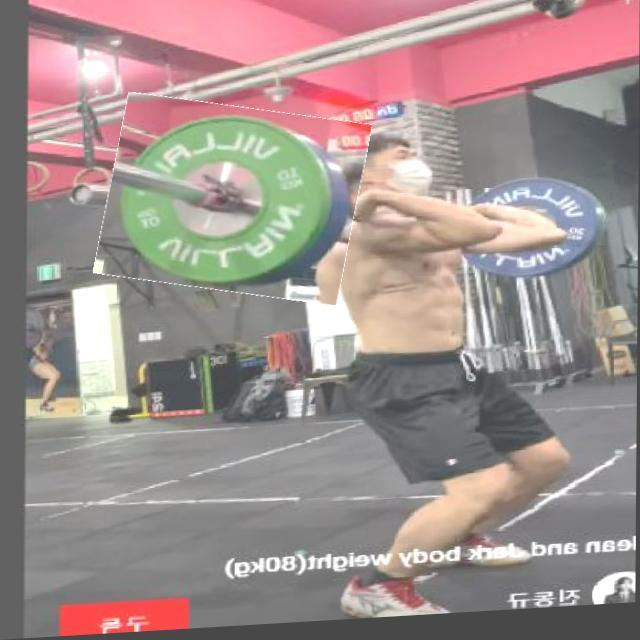barbell: (102, 95, 366, 311)
